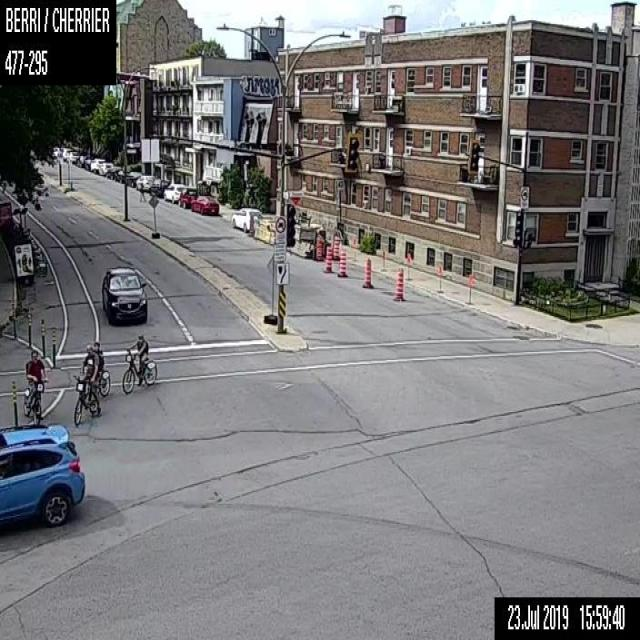construction: (464, 273, 474, 304), (394, 268, 404, 299), (338, 246, 346, 276), (12, 380, 17, 425), (404, 252, 412, 280), (435, 266, 443, 294), (324, 245, 332, 271), (363, 256, 370, 285), (40, 318, 45, 358), (332, 235, 340, 258), (26, 310, 31, 346), (11, 305, 16, 339), (316, 234, 322, 258), (380, 250, 386, 270), (51, 327, 54, 364)
cyclist: (72, 343, 101, 425), (121, 333, 156, 392), (22, 350, 48, 423), (92, 341, 110, 397)
pedestrian: (135, 180, 146, 201)
vehicle: (0, 424, 84, 527), (101, 266, 146, 325), (231, 207, 261, 232), (190, 195, 218, 214), (163, 183, 185, 203), (178, 187, 198, 207), (149, 179, 168, 196), (136, 175, 154, 190), (90, 157, 105, 174), (125, 171, 142, 186), (106, 166, 121, 178), (98, 162, 113, 174), (62, 146, 73, 159), (76, 155, 87, 167), (114, 169, 124, 182), (70, 151, 79, 162), (53, 147, 62, 157), (84, 158, 90, 170)
